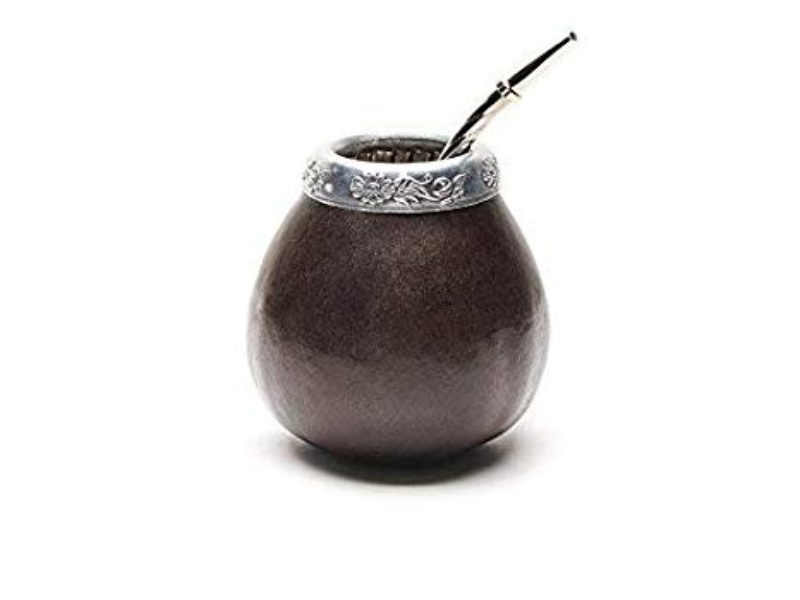guampa: (265, 45, 563, 488)
